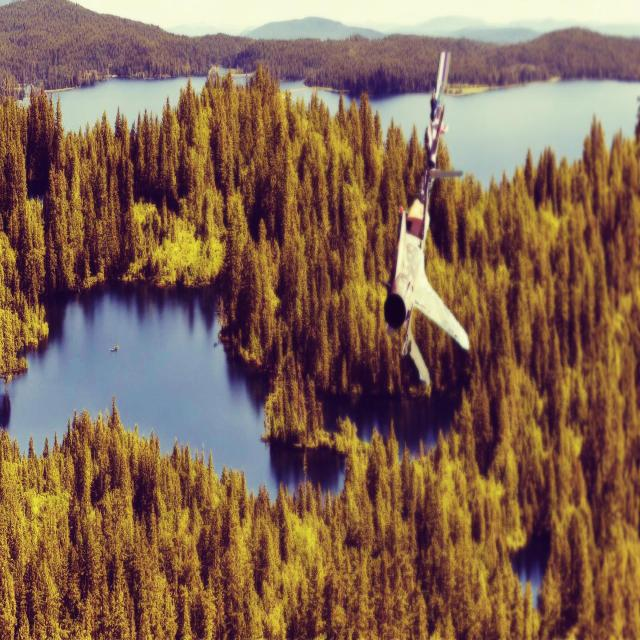airplane: (382, 50, 470, 386)
